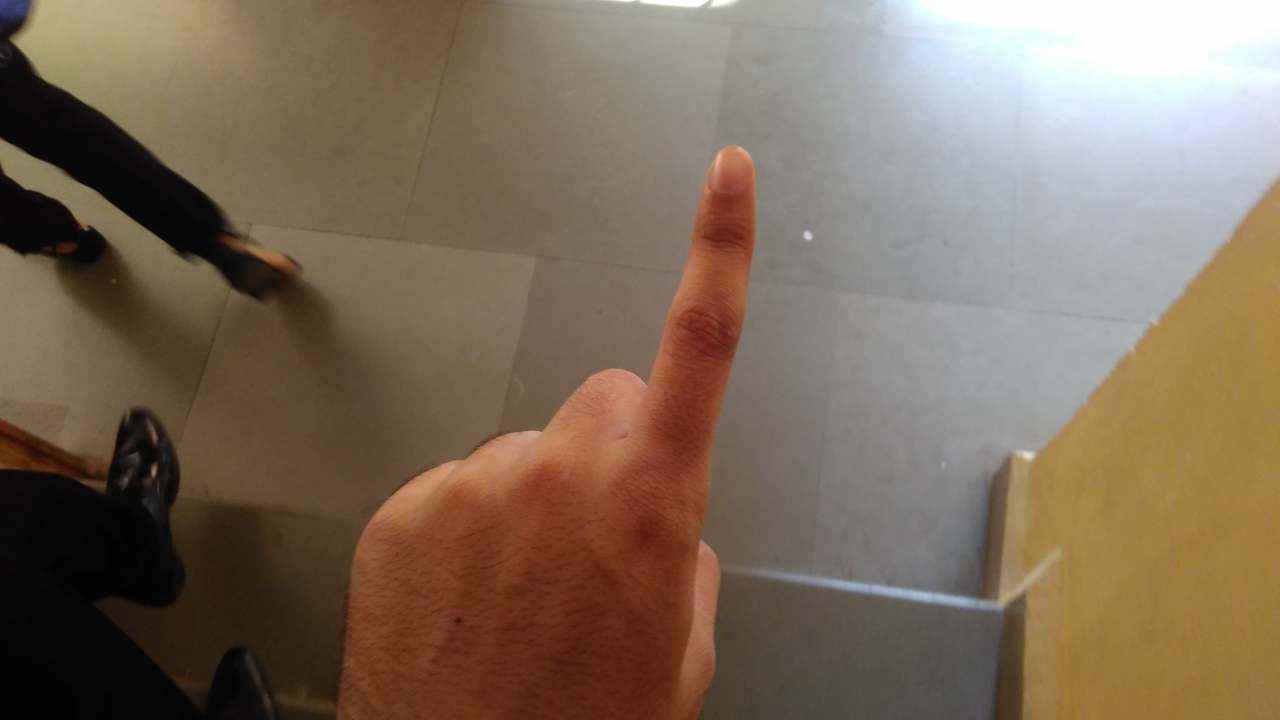fingertip: (700, 138, 762, 198)
